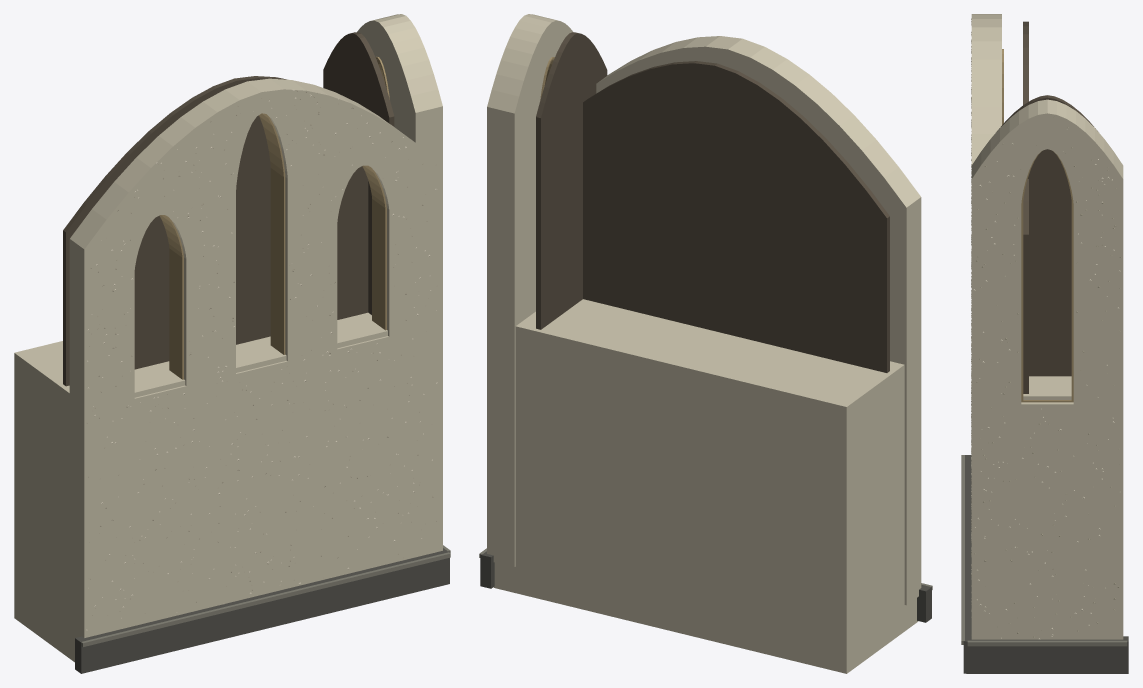
Rendered from changning-yuguang-village-pointed-chimney-lod.glb.
3 views of the same model, side by side, from view 1: azimuth 30°, elevation 25°; view 2: azimuth 150°, elevation 25°; view 3: azimuth 270°, elevation 25° (orthographic). The views are drawn at different scales.
Visible parts, largest first — view 1: 渔光邨尖顶烟囱与三联排烟孔; view 2: 渔光邨尖顶烟囱与三联排烟孔; view 3: 渔光邨尖顶烟囱与三联排烟孔.
Part boxes in pixels (x1,y1,x2,y2): 渔光邨尖顶烟囱与三联排烟孔: (14,14,450,673); 渔光邨尖顶烟囱与三联排烟孔: (479,14,932,673); 渔光邨尖顶烟囱与三联排烟孔: (961,14,1128,673).
Size of the model in its own units: 1.46 by 2.04 by 0.5515.
